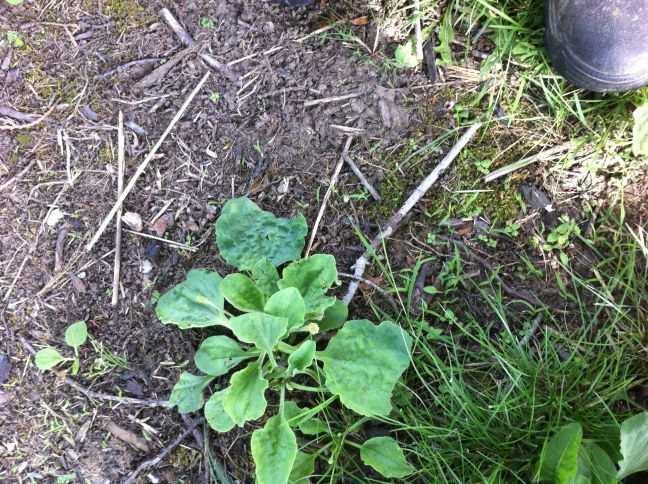weed1: (144, 192, 425, 484)
